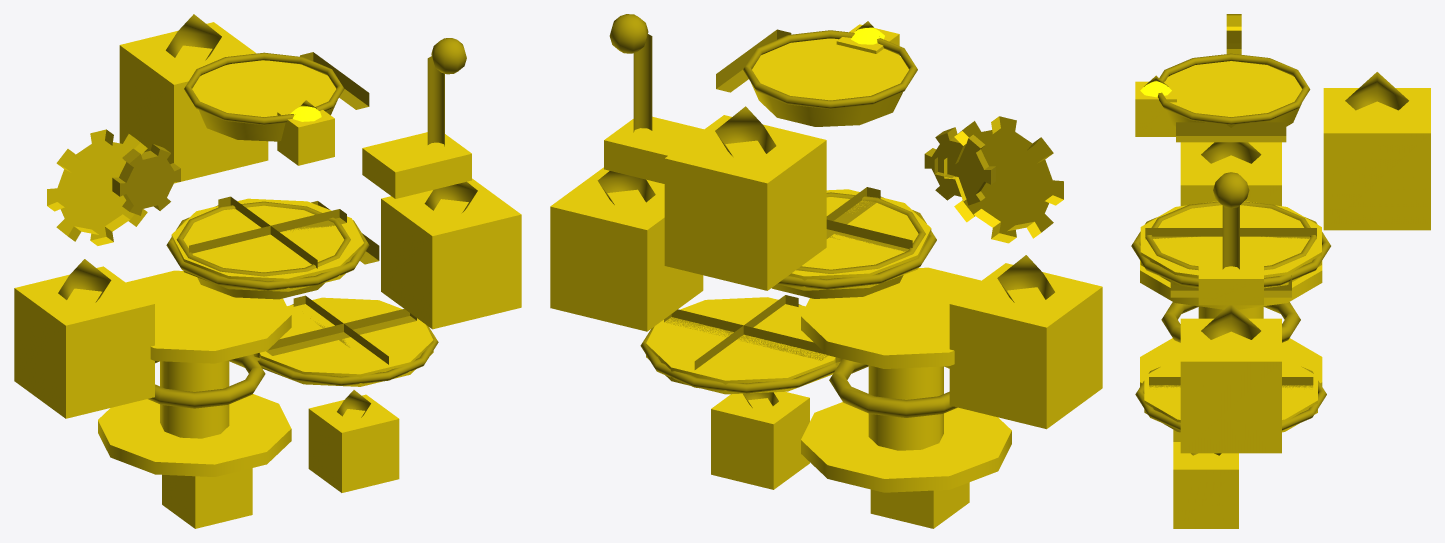
Rendered from golem_004.glb.
3 renders of one model, left to right at view 1: azimuth 30°, elevation 25°; view 2: azimuth 150°, elevation 25°; view 3: azimuth 270°, elevation 25°, orthographic. The views are drawn at different scales.
Parts seen in each view (by area): view 1: Body, Detail; view 2: Body, Detail; view 3: Body, Detail.
Boxes of the visible parts, x1,y1,x2,y2 form: Body: (14, 22, 521, 528); Detail: (58, 14, 477, 417); Body: (550, 24, 1102, 528); Detail: (597, 14, 1054, 417); Body: (1135, 14, 1430, 528); Detail: (1131, 53, 1408, 455).
Size of the model in its own units: 1.37 by 1.19 by 0.7904.
